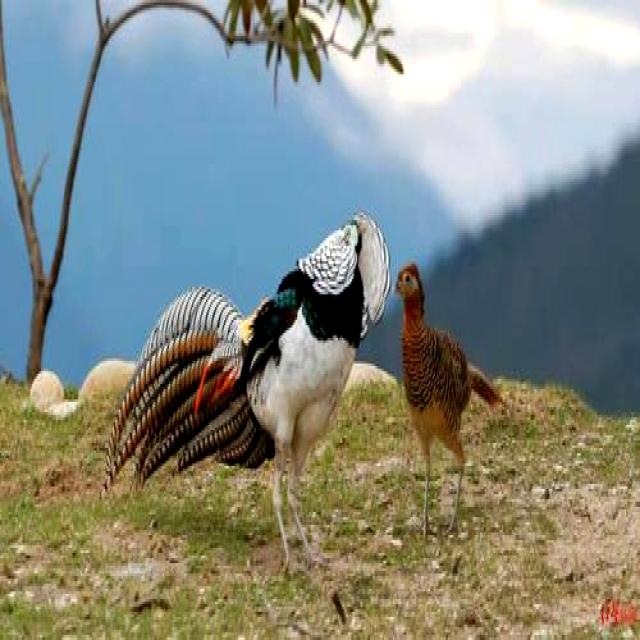Chrysolophus amherstiae: (106, 287, 273, 479)
